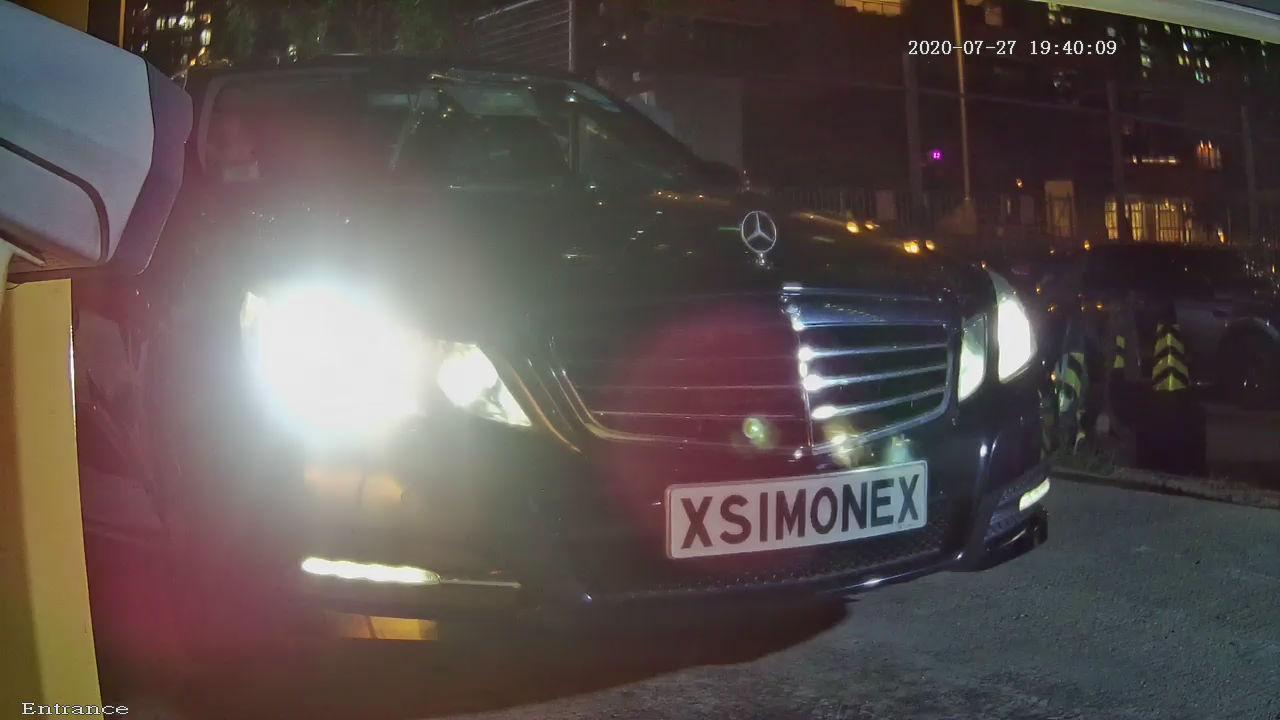privatecar: (201, 17, 1126, 669)
